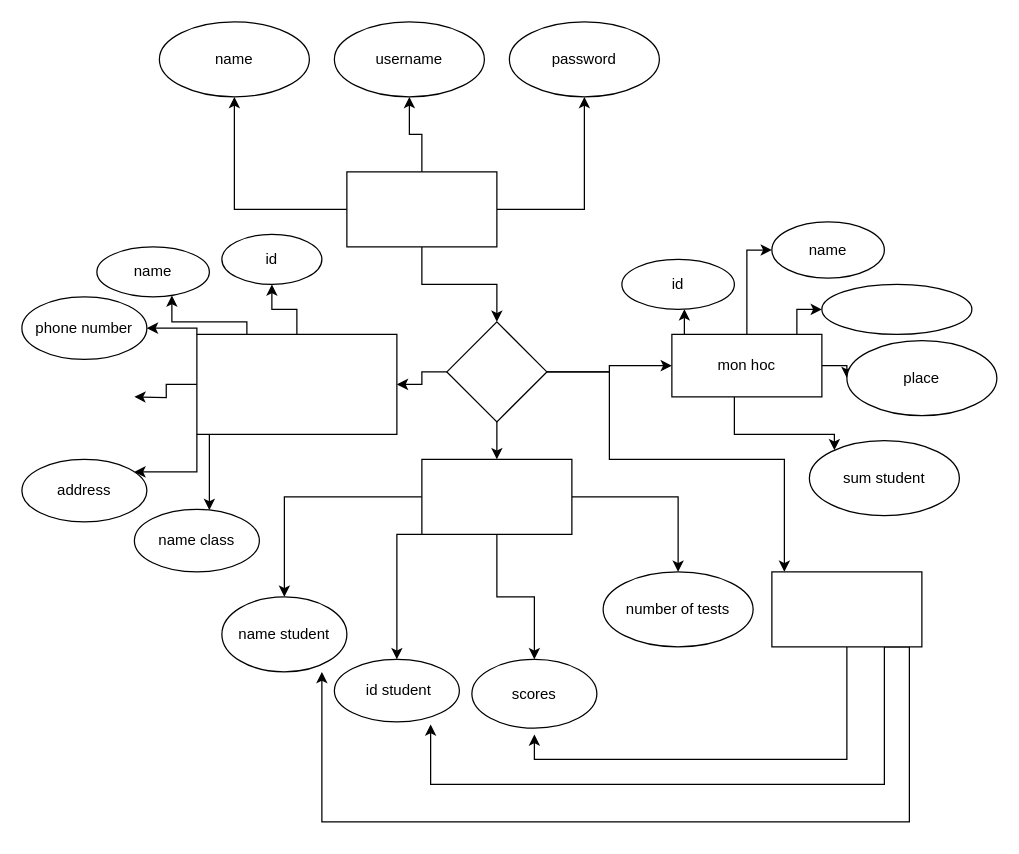
Image size: 1019x854. Some labels were removed from this diagram. The centre of each missing label's shape, as x and y in pixels:
diem thi: pixel 496 496
find: pixel 846 609
hoc sinh: pixel 296 383
login: pixel 421 209
manage: pixel 496 371
time start/time end: pixel 896 308
